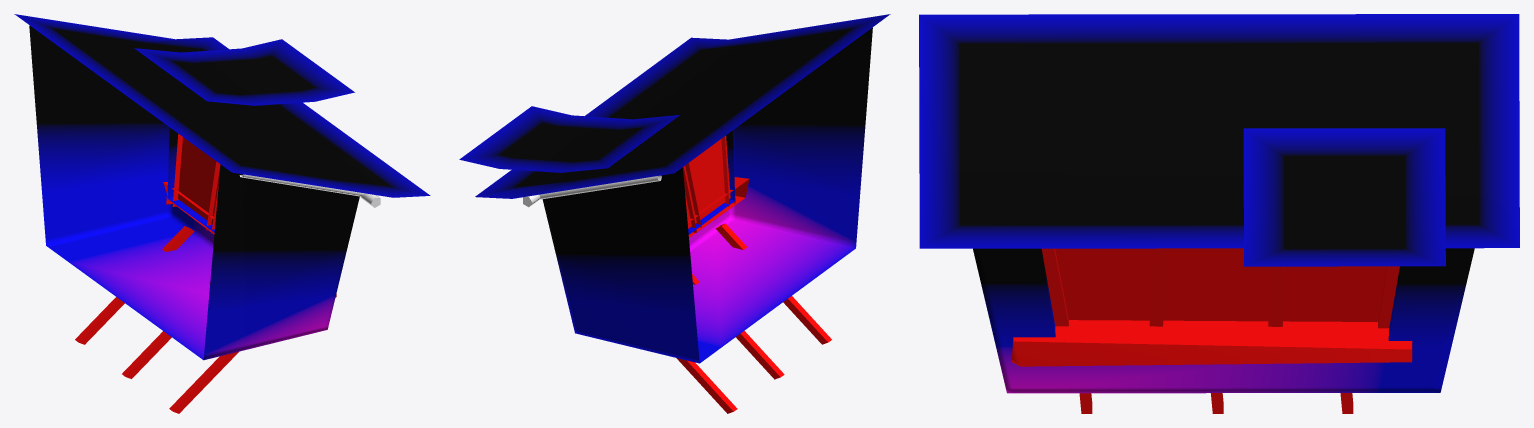
The model's file is V_addon_1.FBX.
The picture shows the model from 3 angles, left to right: view 1: azimuth 30°, elevation 25°; view 2: azimuth 150°, elevation 25°; view 3: azimuth 270°, elevation 25°; orthographic projection. The views are drawn at different scales.
Parts seen in each view (by area): view 1: Object015; view 2: Object015; view 3: Object015.
Boxes of the visible parts, bbox=[...] form: Object015: bbox=[14, 14, 430, 413]; Object015: bbox=[459, 14, 890, 413]; Object015: bbox=[919, 14, 1519, 413].
Bounding box in the file's own units: 523 × 590 × 813.
